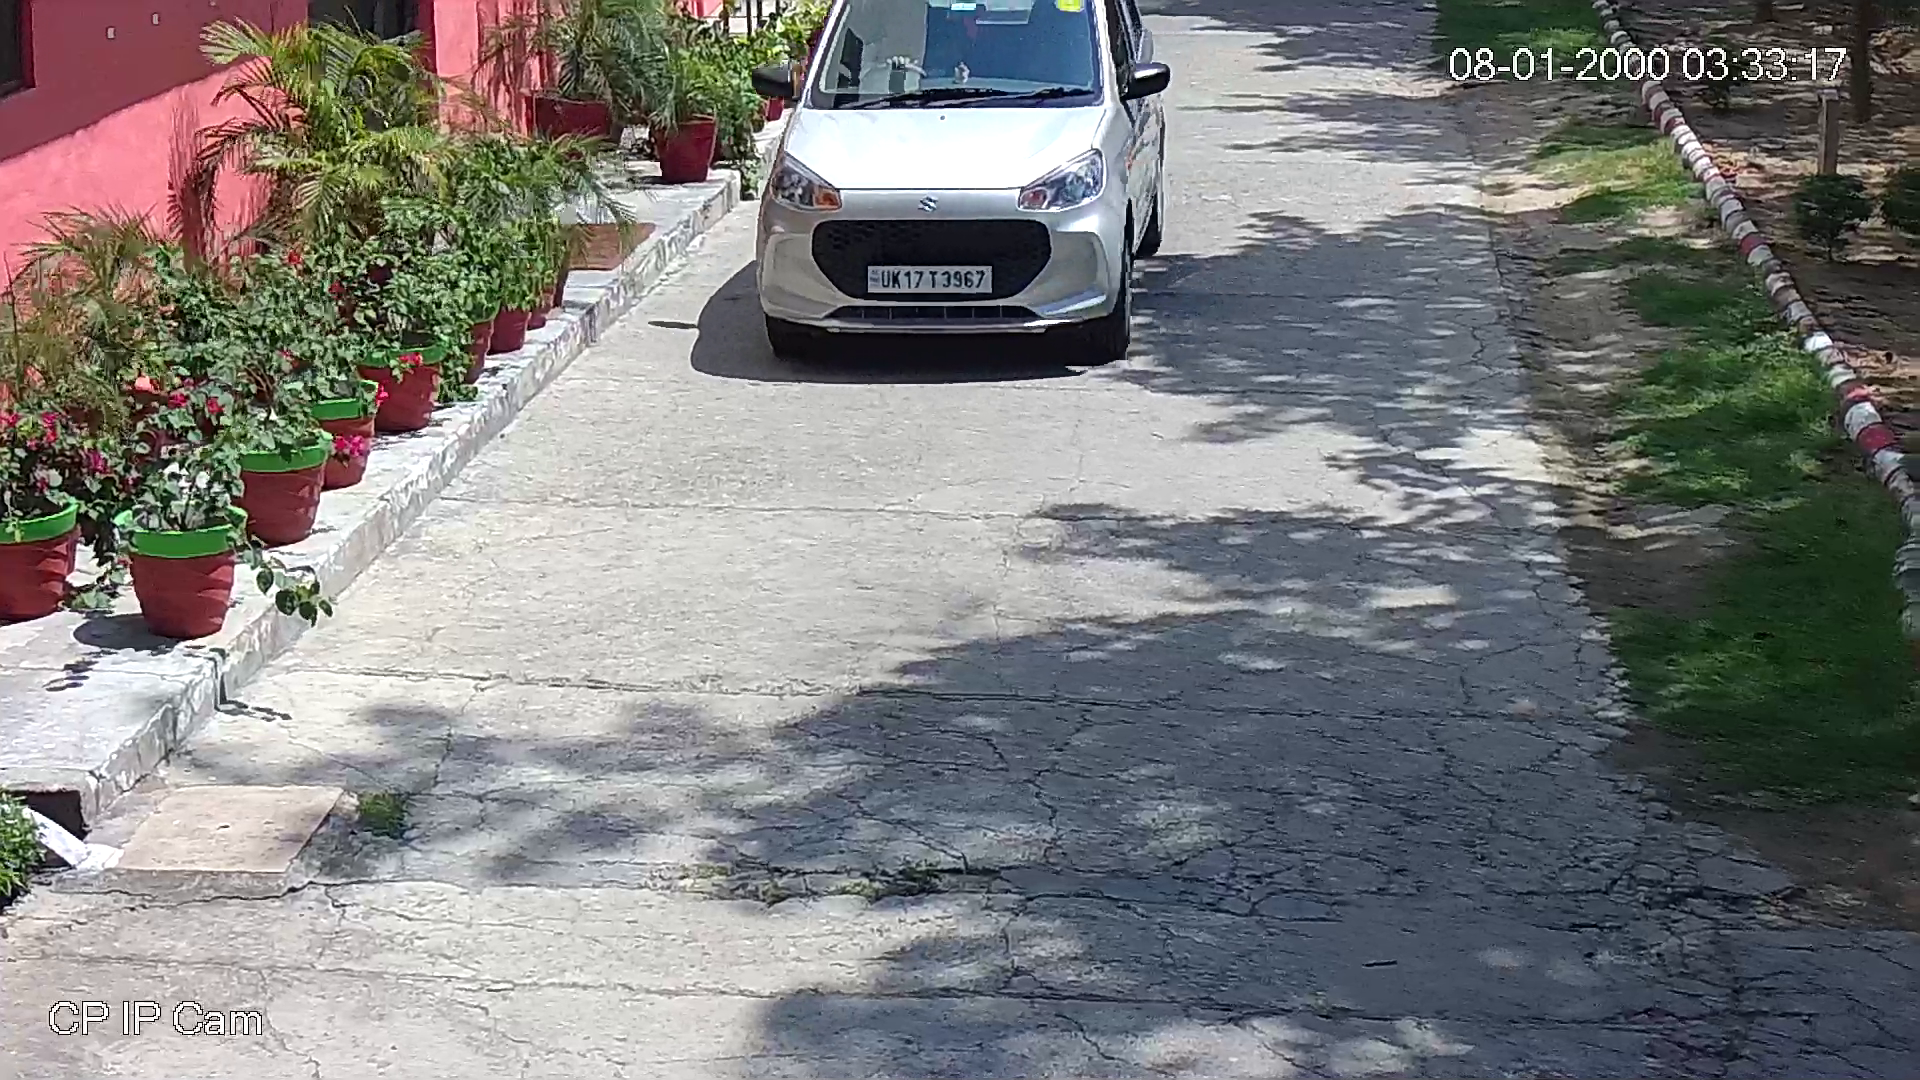plate: (863, 259, 996, 297)
